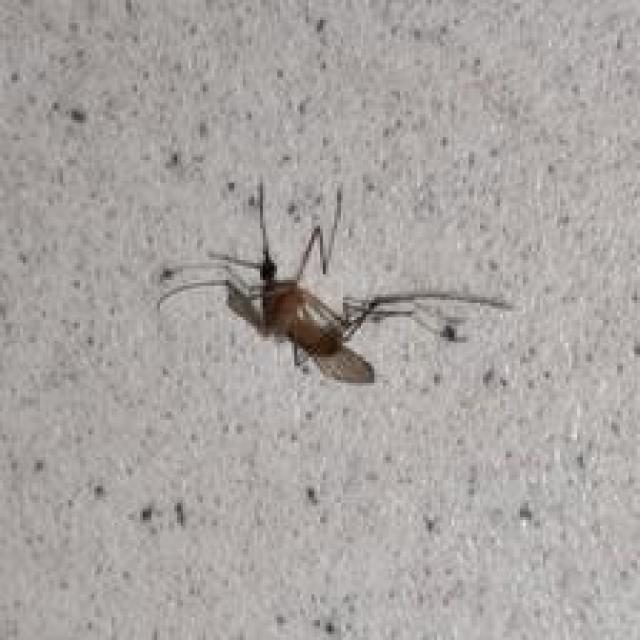Culex: (154, 177, 517, 386)
